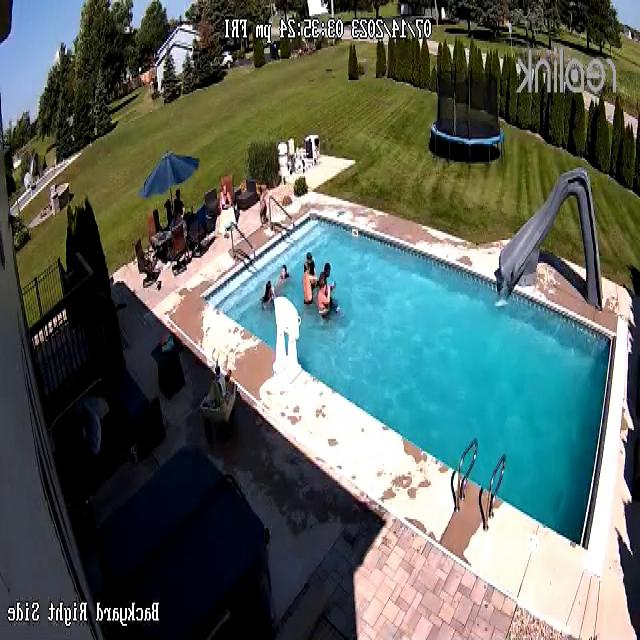adult: (317, 276, 332, 318), (303, 264, 316, 302)
child: (256, 186, 268, 227)
